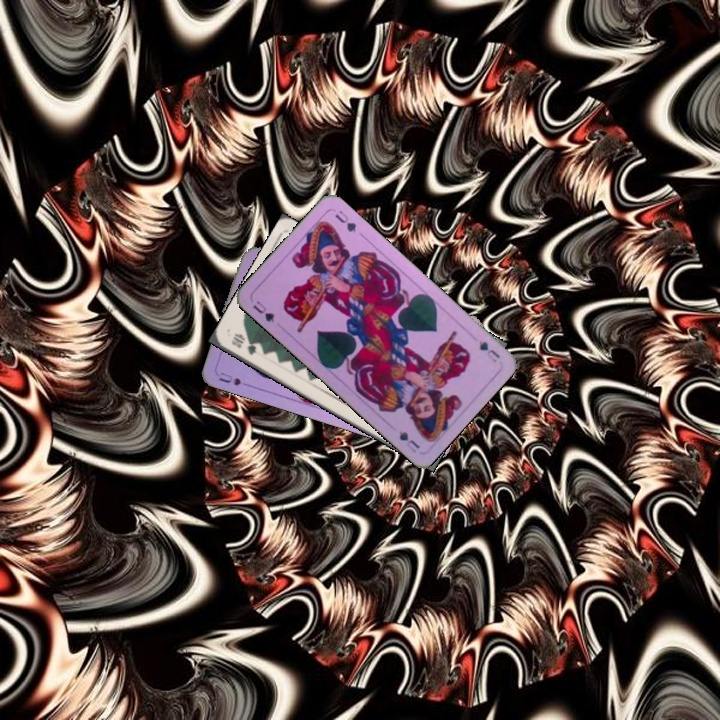G10: (227, 330, 259, 358)
GU: (249, 297, 277, 325), (475, 337, 503, 365)
SU: (215, 368, 255, 390)
